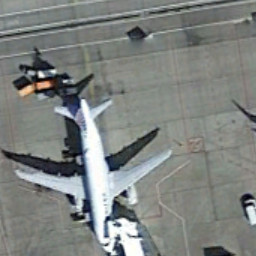Airplane: (7, 89, 176, 256)
